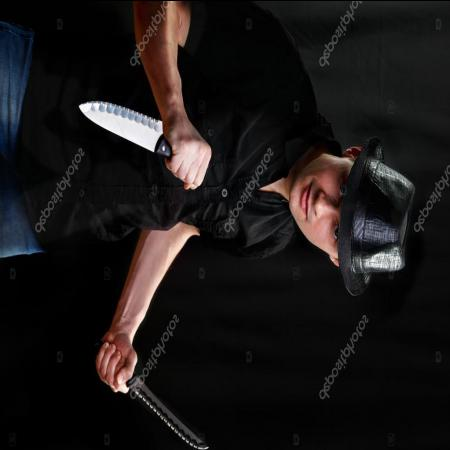long weapon: (74, 90, 216, 192)
